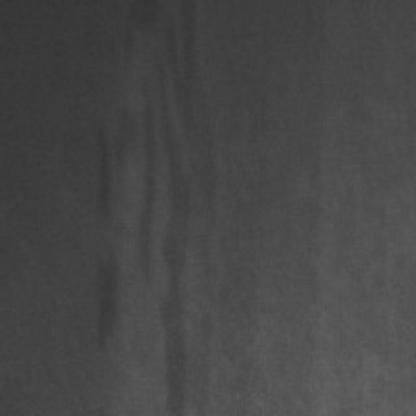inclusion: (137, 0, 202, 410), (85, 106, 131, 352)
